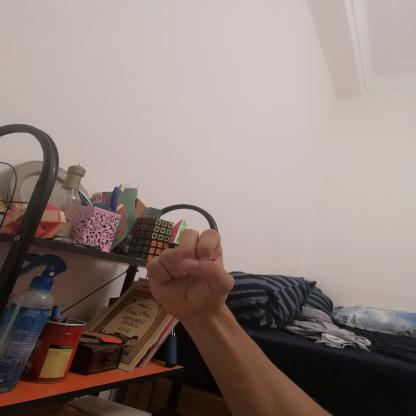QAAF: (129, 219, 254, 330)
